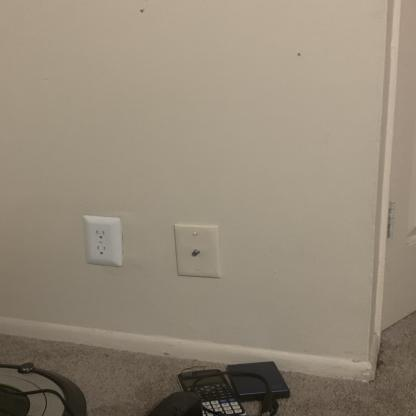OUTLET: (83, 215, 121, 265)
